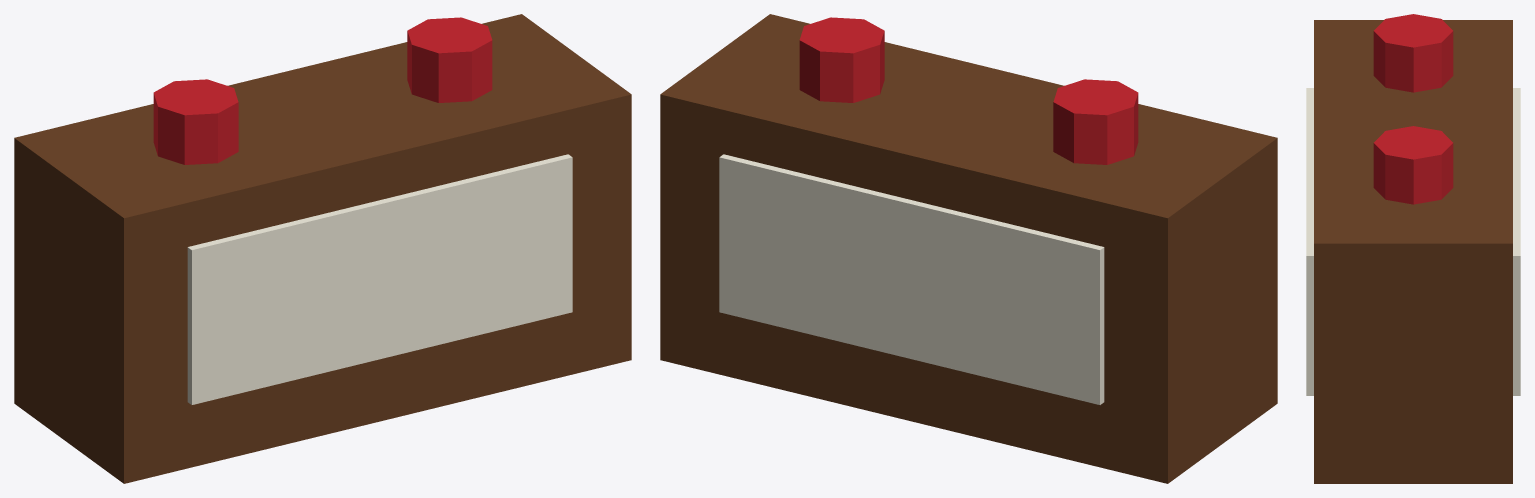
File: chess_clock.glb
3 views of the same model, side by side, from view 1: azimuth 30°, elevation 25°; view 2: azimuth 150°, elevation 25°; view 3: azimuth 270°, elevation 25° (orthographic). The views are drawn at different scales.
Parts seen in each view (by area): view 1: box_clock_wood, faces_clock_face, buttons_clock_button; view 2: box_clock_wood, faces_clock_face, buttons_clock_button; view 3: box_clock_wood, buttons_clock_button, faces_clock_face.
Boxes of the visible parts, bbox=[...] form: box_clock_wood: bbox=[14, 14, 631, 483]; faces_clock_face: bbox=[187, 154, 572, 404]; buttons_clock_button: bbox=[153, 17, 492, 164]; box_clock_wood: bbox=[660, 14, 1277, 483]; faces_clock_face: bbox=[719, 154, 1104, 404]; buttons_clock_button: bbox=[799, 17, 1138, 164]; box_clock_wood: bbox=[1314, 20, 1512, 483]; buttons_clock_button: bbox=[1373, 14, 1453, 204]; faces_clock_face: bbox=[1306, 88, 1520, 395].
Bounding box in the file's own units: 0.24 × 0.1425 × 0.097.
